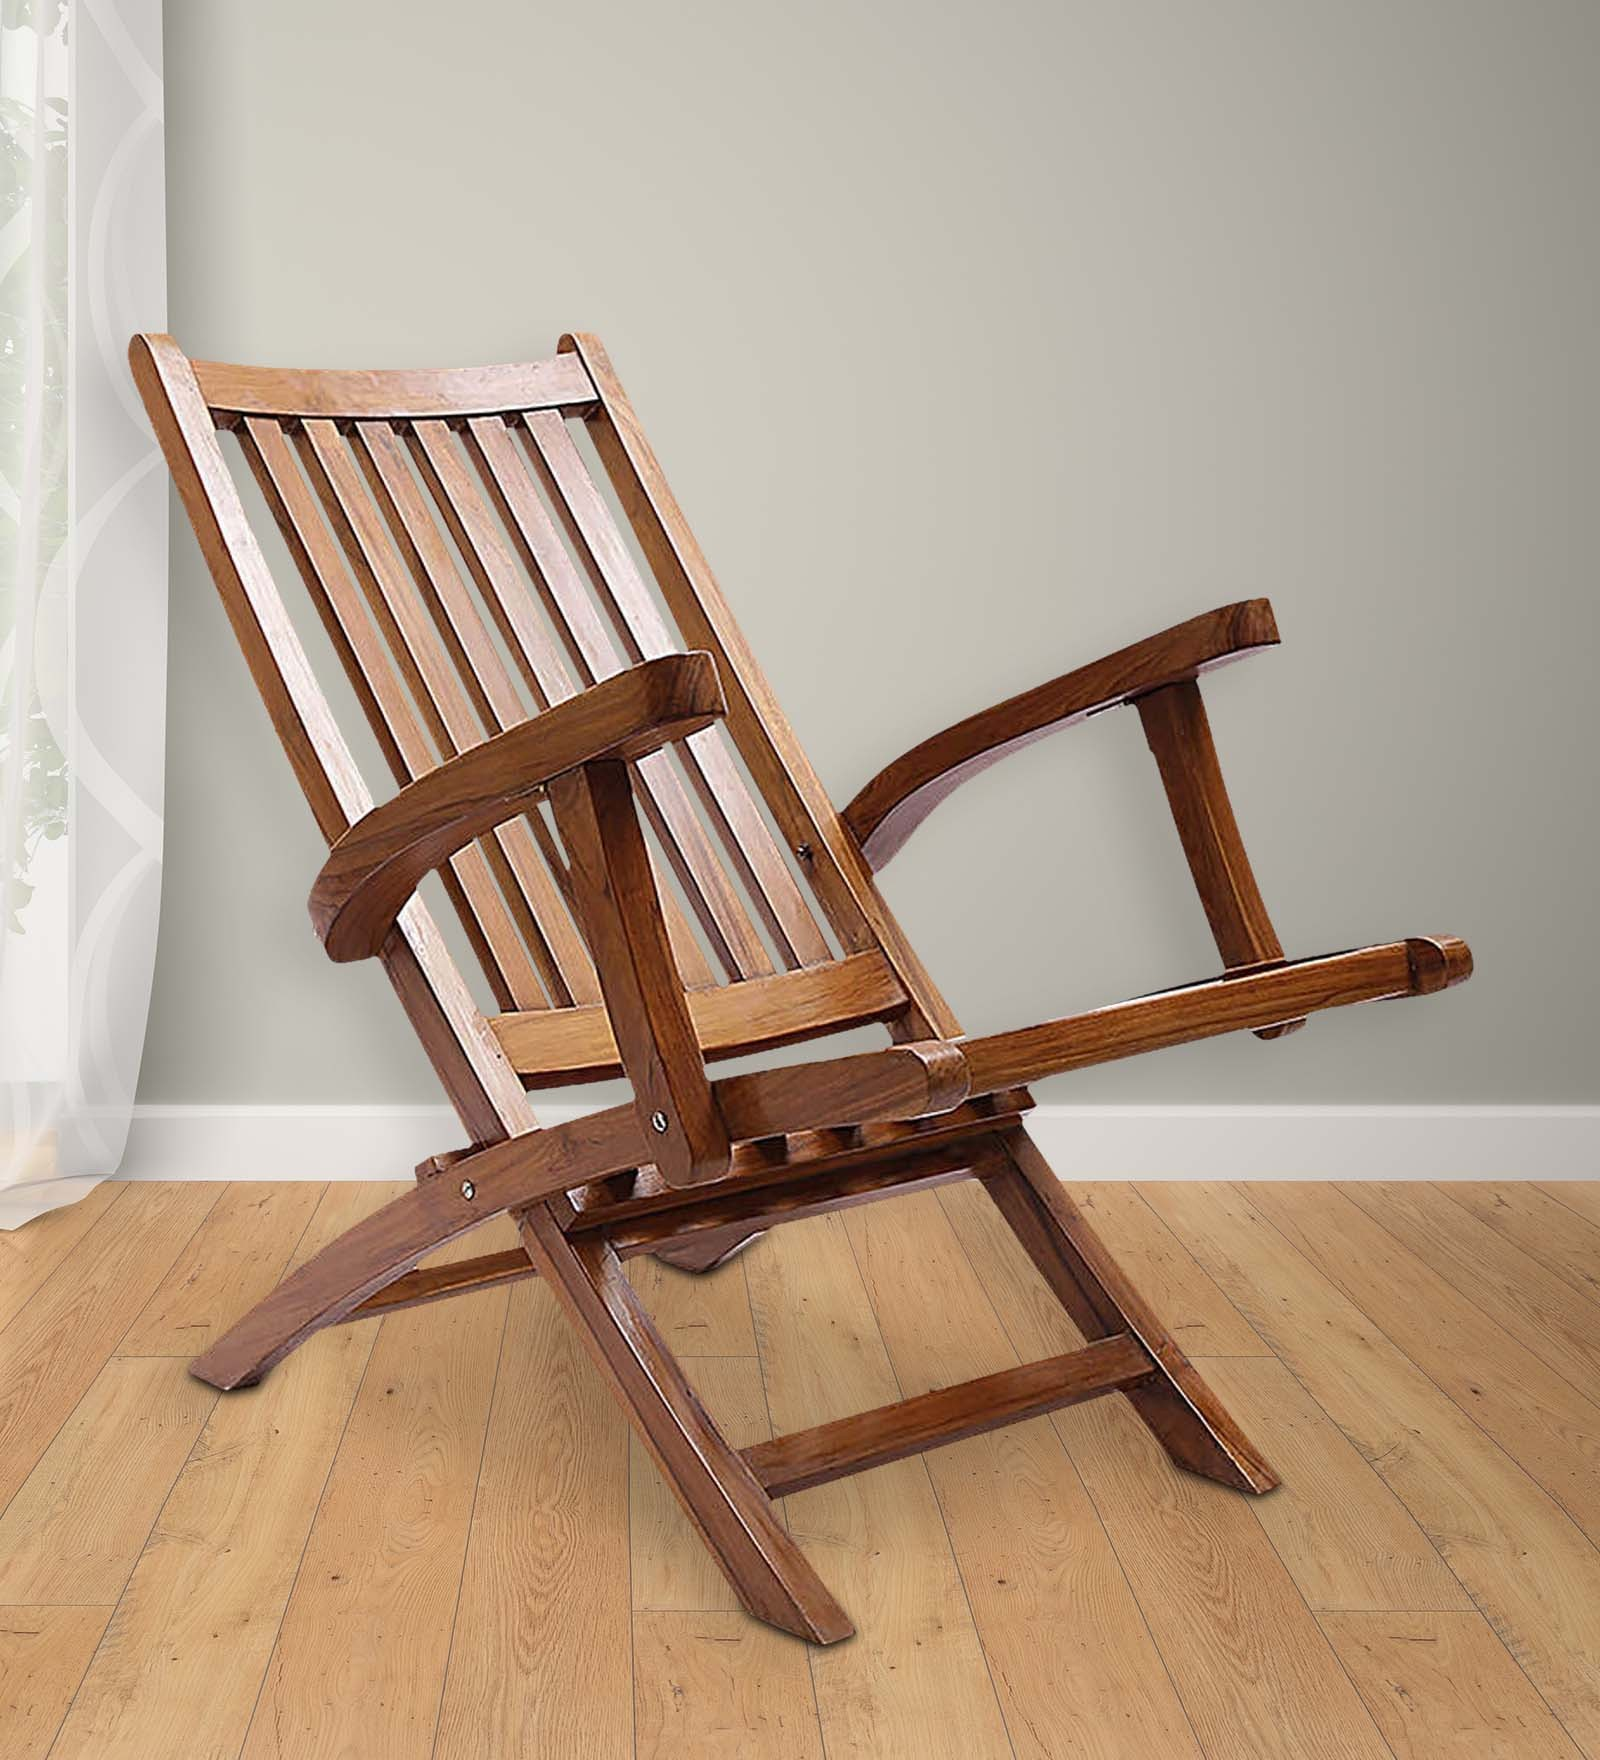Omak Teak Wood Folding Chair in Natural Teak Finish by Finesse: (116, 319, 1480, 1653)
